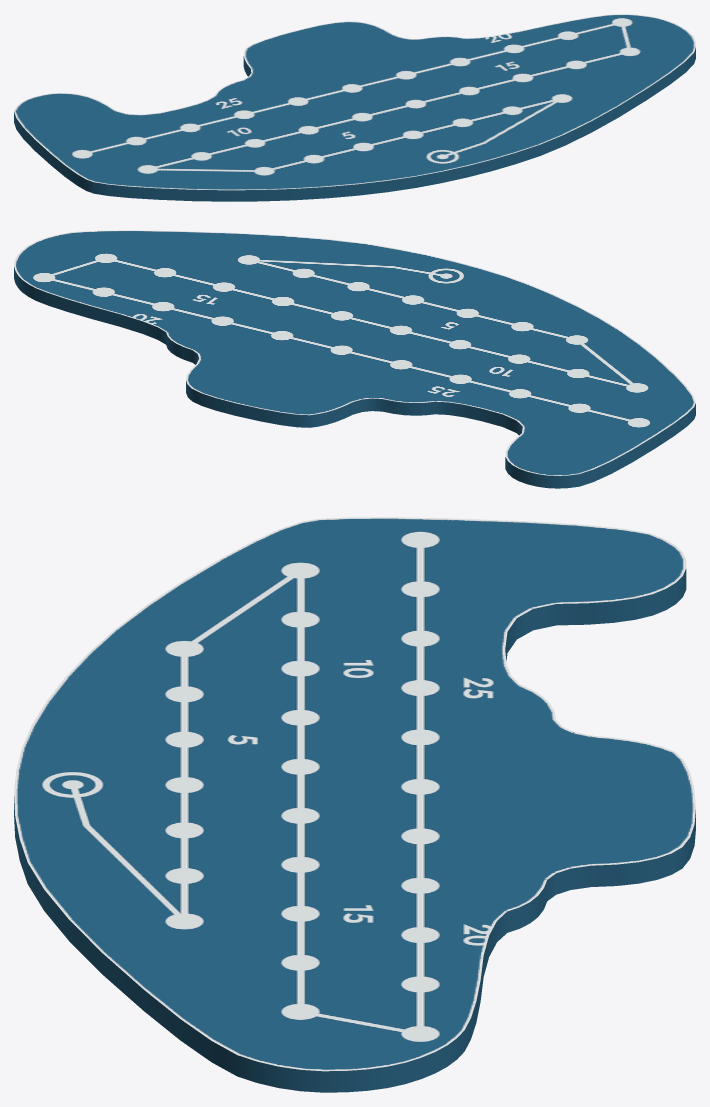
File: submarine_board.glb
The picture shows the model from 3 angles, top to bottom: view 1: azimuth 30°, elevation 25°; view 2: azimuth 150°, elevation 25°; view 3: azimuth 270°, elevation 25°; orthographic projection. The views are drawn at different scales.
Parts seen in each view (by area): view 1: submarine_board; view 2: submarine_board; view 3: submarine_board.
Boxes of the visible parts, x1=… form: submarine_board: x1=14, y1=14, x2=695, y2=201; submarine_board: x1=14, y1=230, x2=695, y2=488; submarine_board: x1=14, y1=517, x2=695, y2=1092.
Size of the model in its own units: 0.1662 by 0.003 by 0.0865.
2 materials, 1 textured.
